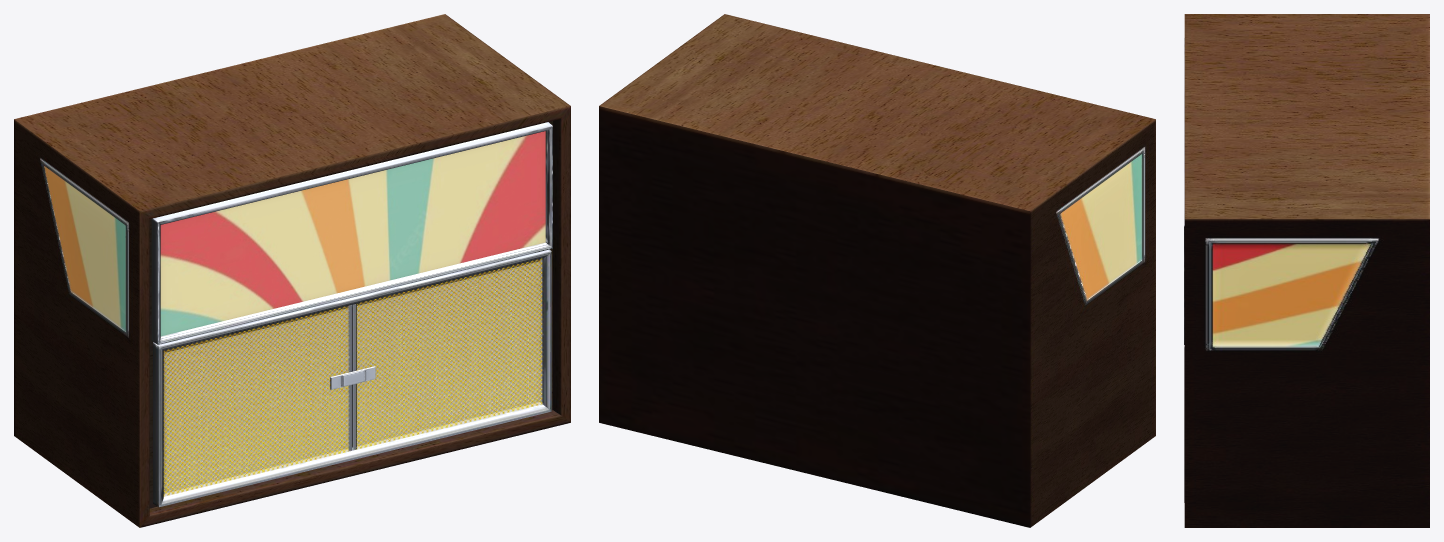
Rendered from obj_dresser.gltf.
3 renders of one model, left to right at view 1: azimuth 30°, elevation 25°; view 2: azimuth 150°, elevation 25°; view 3: azimuth 270°, elevation 25°, orthographic. The views are drawn at different scales.
Parts seen in each view (by area): view 1: obj_dresser; view 2: obj_dresser; view 3: obj_dresser.
Part boxes in pixels (<box>): obj_dresser: <box>14,14,570,527</box>; obj_dresser: <box>599,14,1155,527</box>; obj_dresser: <box>1184,14,1429,527</box>.
Size of what is drawn, in the model's own units: 1.17 by 0.8187 by 0.5905.
Materials: 1 (1 with a texture image).
